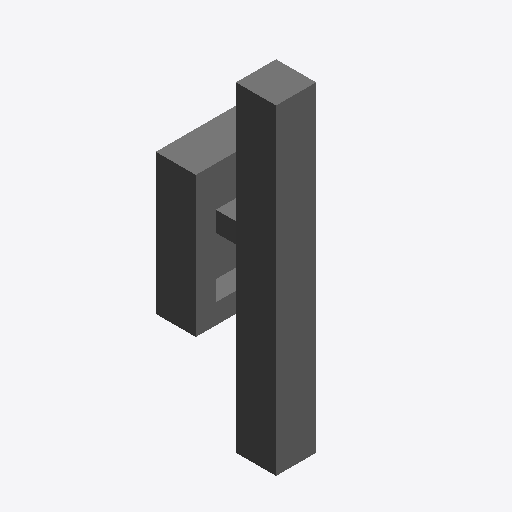
Isometric view (azimuth 45°, elevation 35.3°) of a Minecraft model made of 7 cuboids, textured from the same repository.
Visible parts, largest first — element 7, element 6, element 2, element 4, element 3, element 1.
Part boxes in pixels (x1,y1,x2,y2): element 7: (236, 59, 315, 475); element 6: (176, 152, 215, 336); element 2: (156, 106, 235, 324); element 4: (196, 129, 235, 185); element 3: (216, 268, 235, 324); element 1: (216, 198, 235, 243).
Bounding box in the file's own units: 6 × 16 × 4.